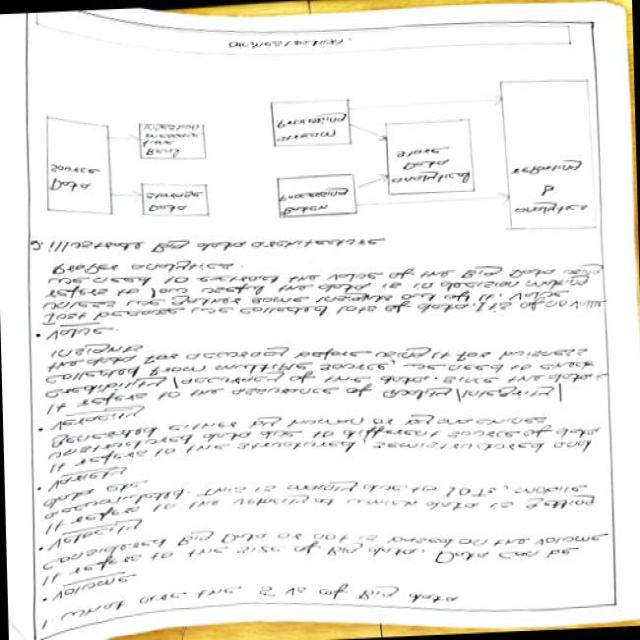Figure Detection - v3 Dataset Version2: (22, 0, 600, 264)
